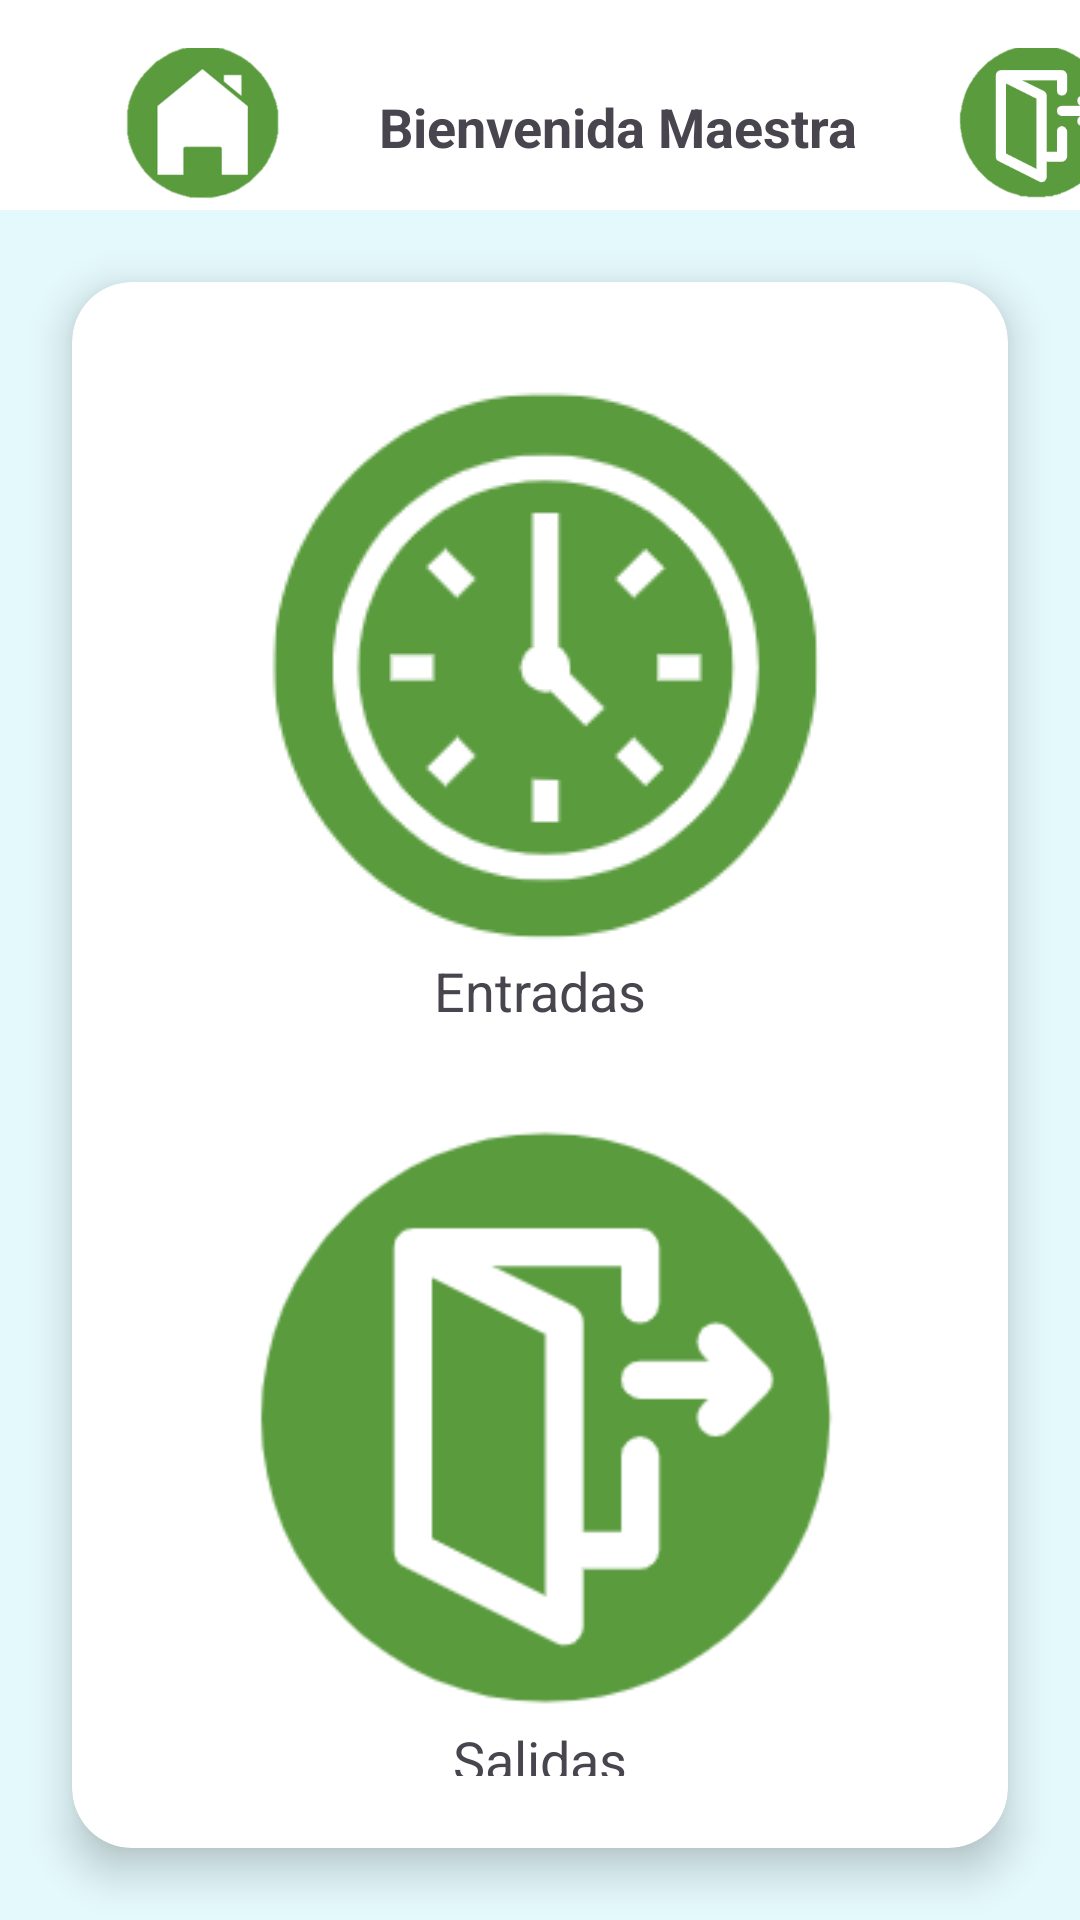

Icon click points for this 1080px×1920px phone screenshot, format [x,y]:
casa sf: [203,123]
